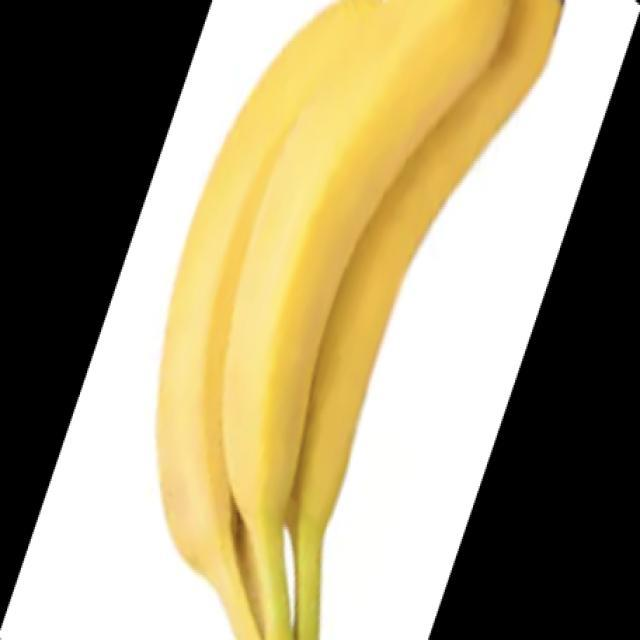Banana: (154, 0, 567, 639)
